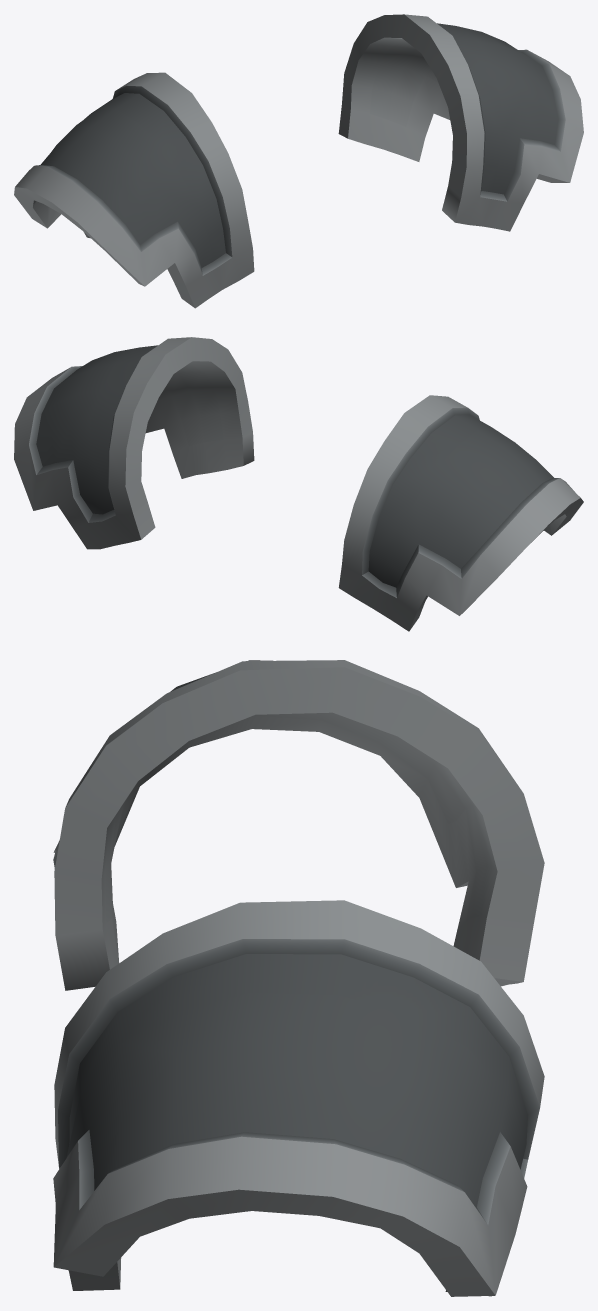
File: Costume_9_03.glb
3 renders of one model, top to bottom at view 1: azimuth 30°, elevation 25°; view 2: azimuth 150°, elevation 25°; view 3: azimuth 270°, elevation 25°, orthographic. The views are drawn at different scales.
Visible parts, largest first — view 1: Costume_9_03; view 2: Costume_9_03; view 3: Costume_9_03.
Part boxes in pixels (x1,y1,x2,y2): Costume_9_03: (14,14,583,308); Costume_9_03: (14,337,583,631); Costume_9_03: (53,660,544,1296).
Size of the model in its own units: 0.479 by 0.1594 by 0.1953.
Materials: 1 (1 with a texture image).
